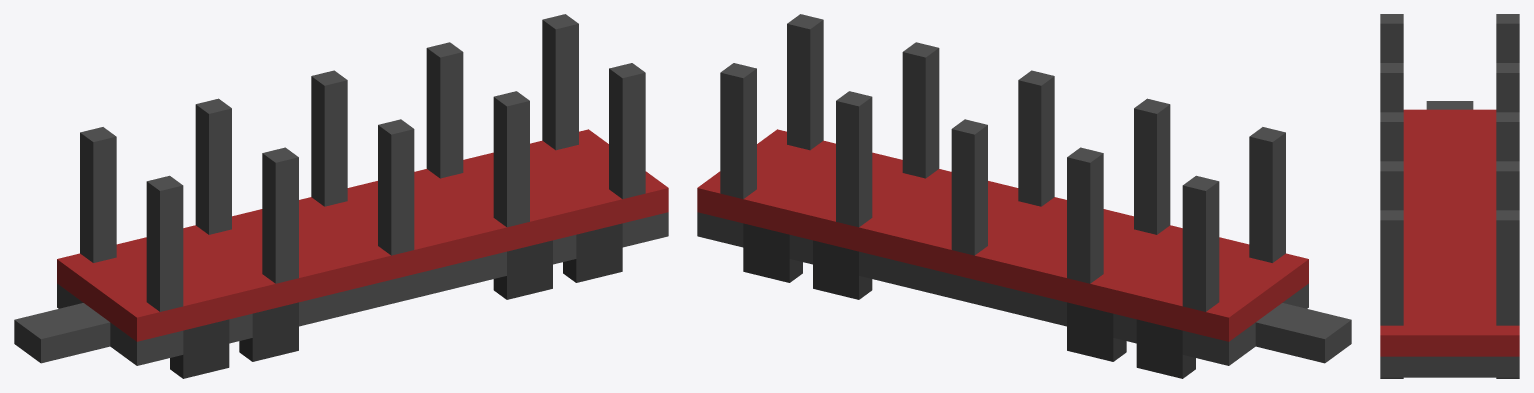
Rendered from train-trailer-v9-red.gltf.
3 renders of one model, left to right at view 1: azimuth 30°, elevation 25°; view 2: azimuth 150°, elevation 25°; view 3: azimuth 270°, elevation 25°, orthographic. The views are drawn at different scales.
Parts seen in each view (by area): view 1: model, wheels; view 2: model, wheels; view 3: model.
Part boxes in pixels (x1,y1,x2,y2): model: [14, 14, 668, 365]; wheels: [170, 223, 622, 378]; model: [697, 14, 1351, 365]; wheels: [743, 223, 1195, 378]; model: [1380, 14, 1519, 377].
Bounding box in the file's own units: 2.6 × 0.8 × 0.6.
Materials: 2 (2 with a texture image).
